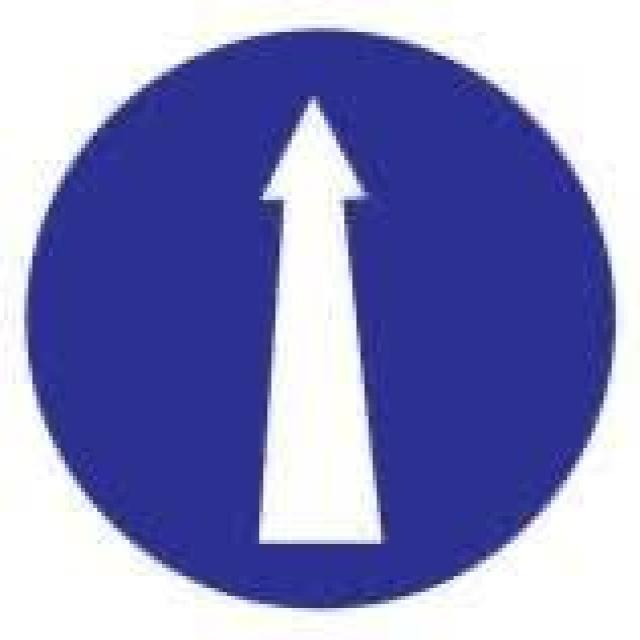compulsary ahead: (22, 22, 614, 608)
